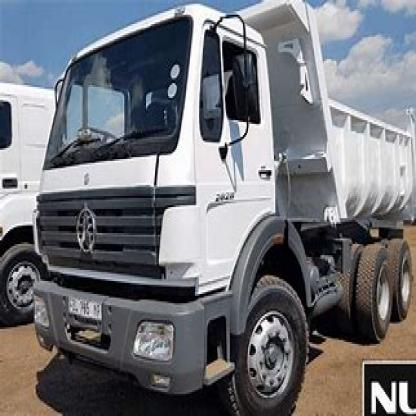dump_truck: (32, 7, 412, 400)
